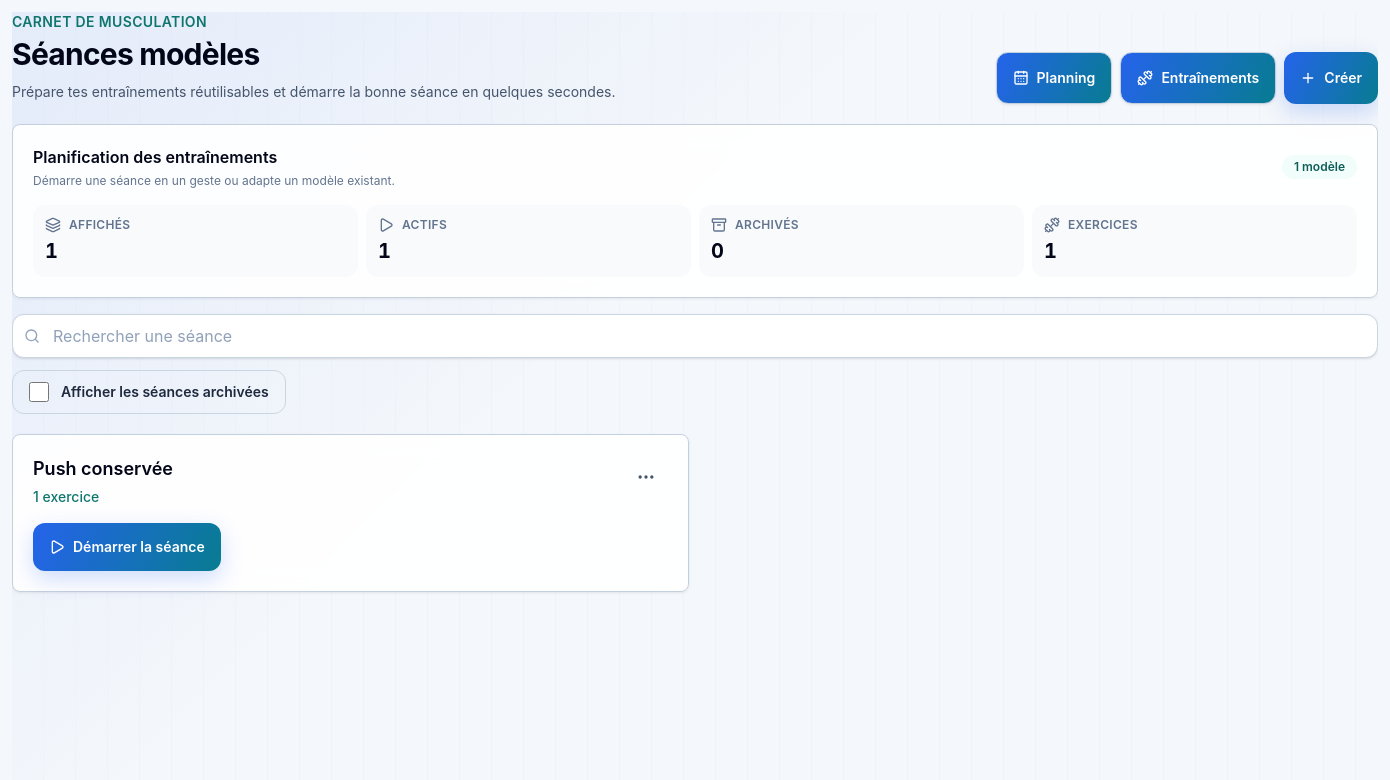
Scenario: WorkoutTemplatesPage › conserve le toast et la navigation après le démarrage depuis un modèle
The image size is (1390, 780).
Click the button "Démarrer la séance" at (127, 547), box [33,523,221,571]
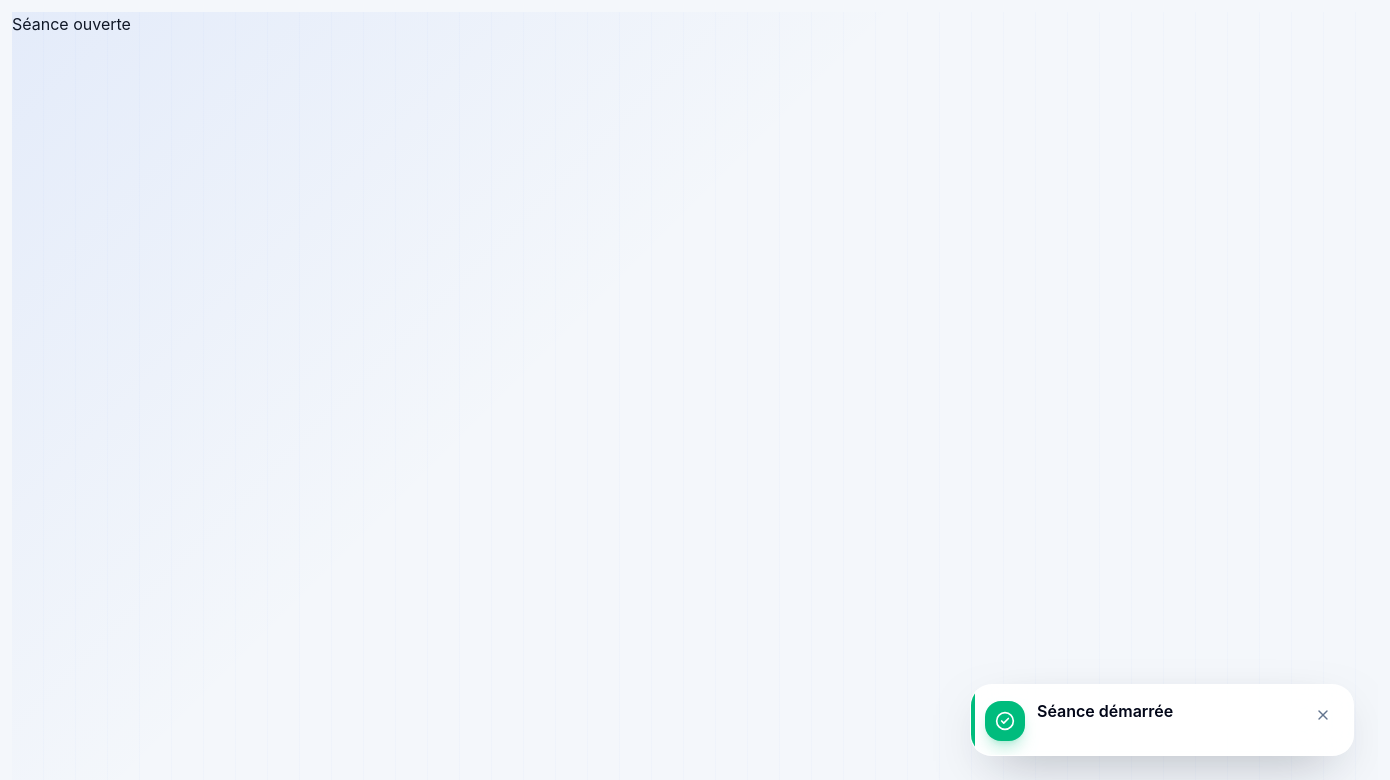
expect the heading "Séance ouverte" is shown: met, box [12,14,131,34]
expect the number of messages is 1: met, box [970,684,1354,756]
expect the message reads "Séance démarrée": met, box [1037,701,1173,721]
